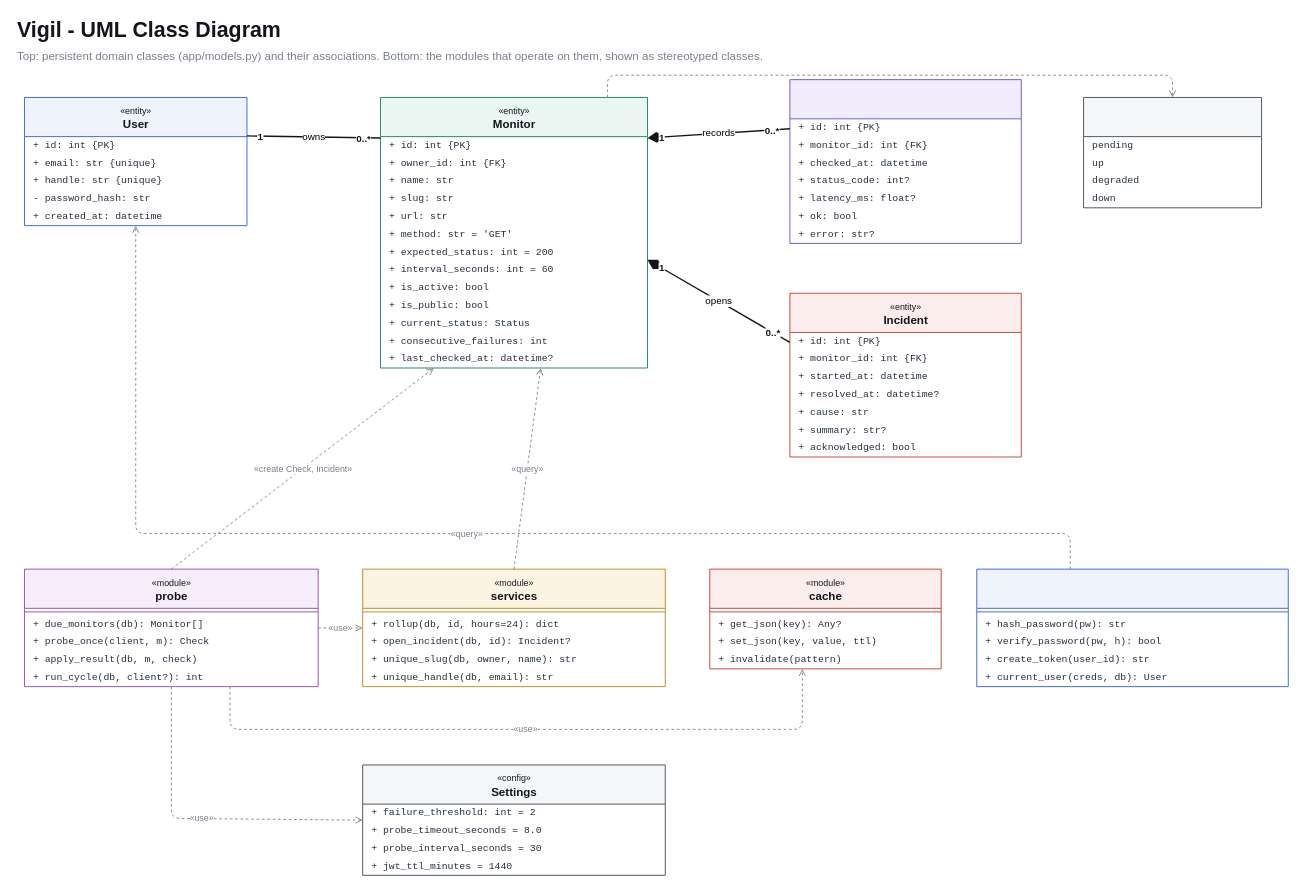
Some shapes in this 1312 by 891 pixel diagram are drawn without their labels. Here are the shapes that lost their labels. From the top down, the box of each, then its label:
(789, 79, 1021, 243): «entity» Check
(1083, 97, 1262, 208): «enumeration» Status
(976, 568, 1288, 687): «module» security
